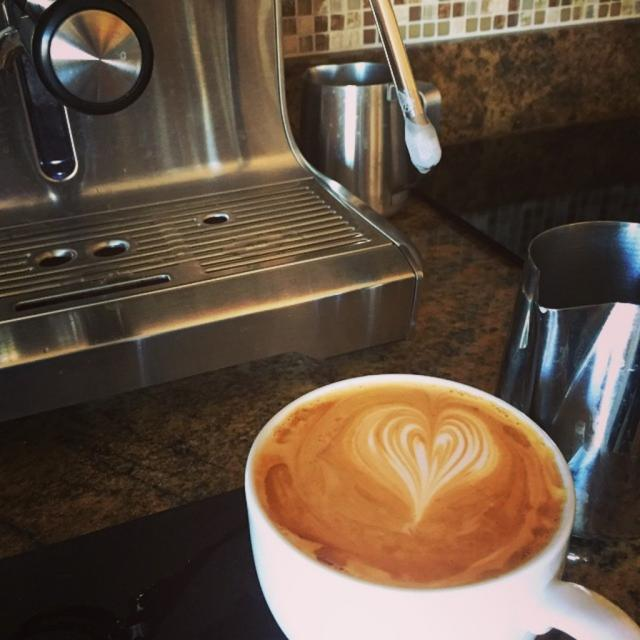latte: (244, 373, 573, 596)
